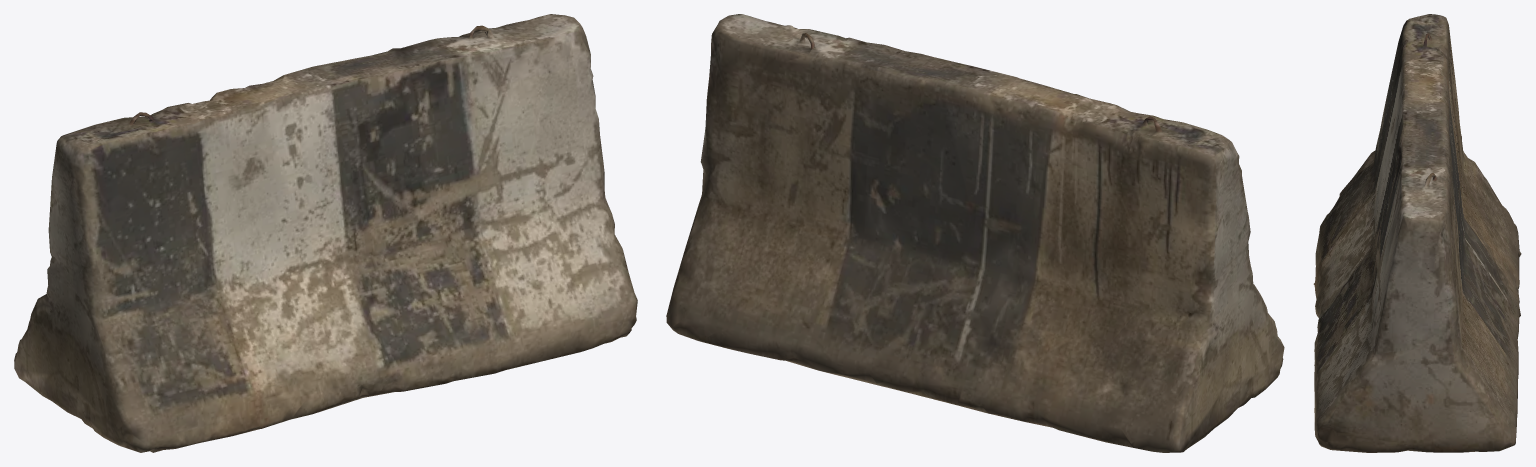
File: concrete_road_barrier.glb
3 renders of one model, left to right at view 1: azimuth 30°, elevation 25°; view 2: azimuth 150°, elevation 25°; view 3: azimuth 270°, elevation 25°, orthographic. The views are drawn at different scales.
Visible parts, largest first — view 1: concrete_road_barrier; view 2: concrete_road_barrier; view 3: concrete_road_barrier.
Boxes of the visible parts, x1=… form: concrete_road_barrier: x1=14, y1=14, x2=637, y2=452; concrete_road_barrier: x1=666, y1=14, x2=1284, y2=452; concrete_road_barrier: x1=1313, y1=14, x2=1521, y2=452.
Bounding box in the file's own units: 1.54 × 0.8303 × 0.6388.
Materials: 1 (1 with a texture image).
